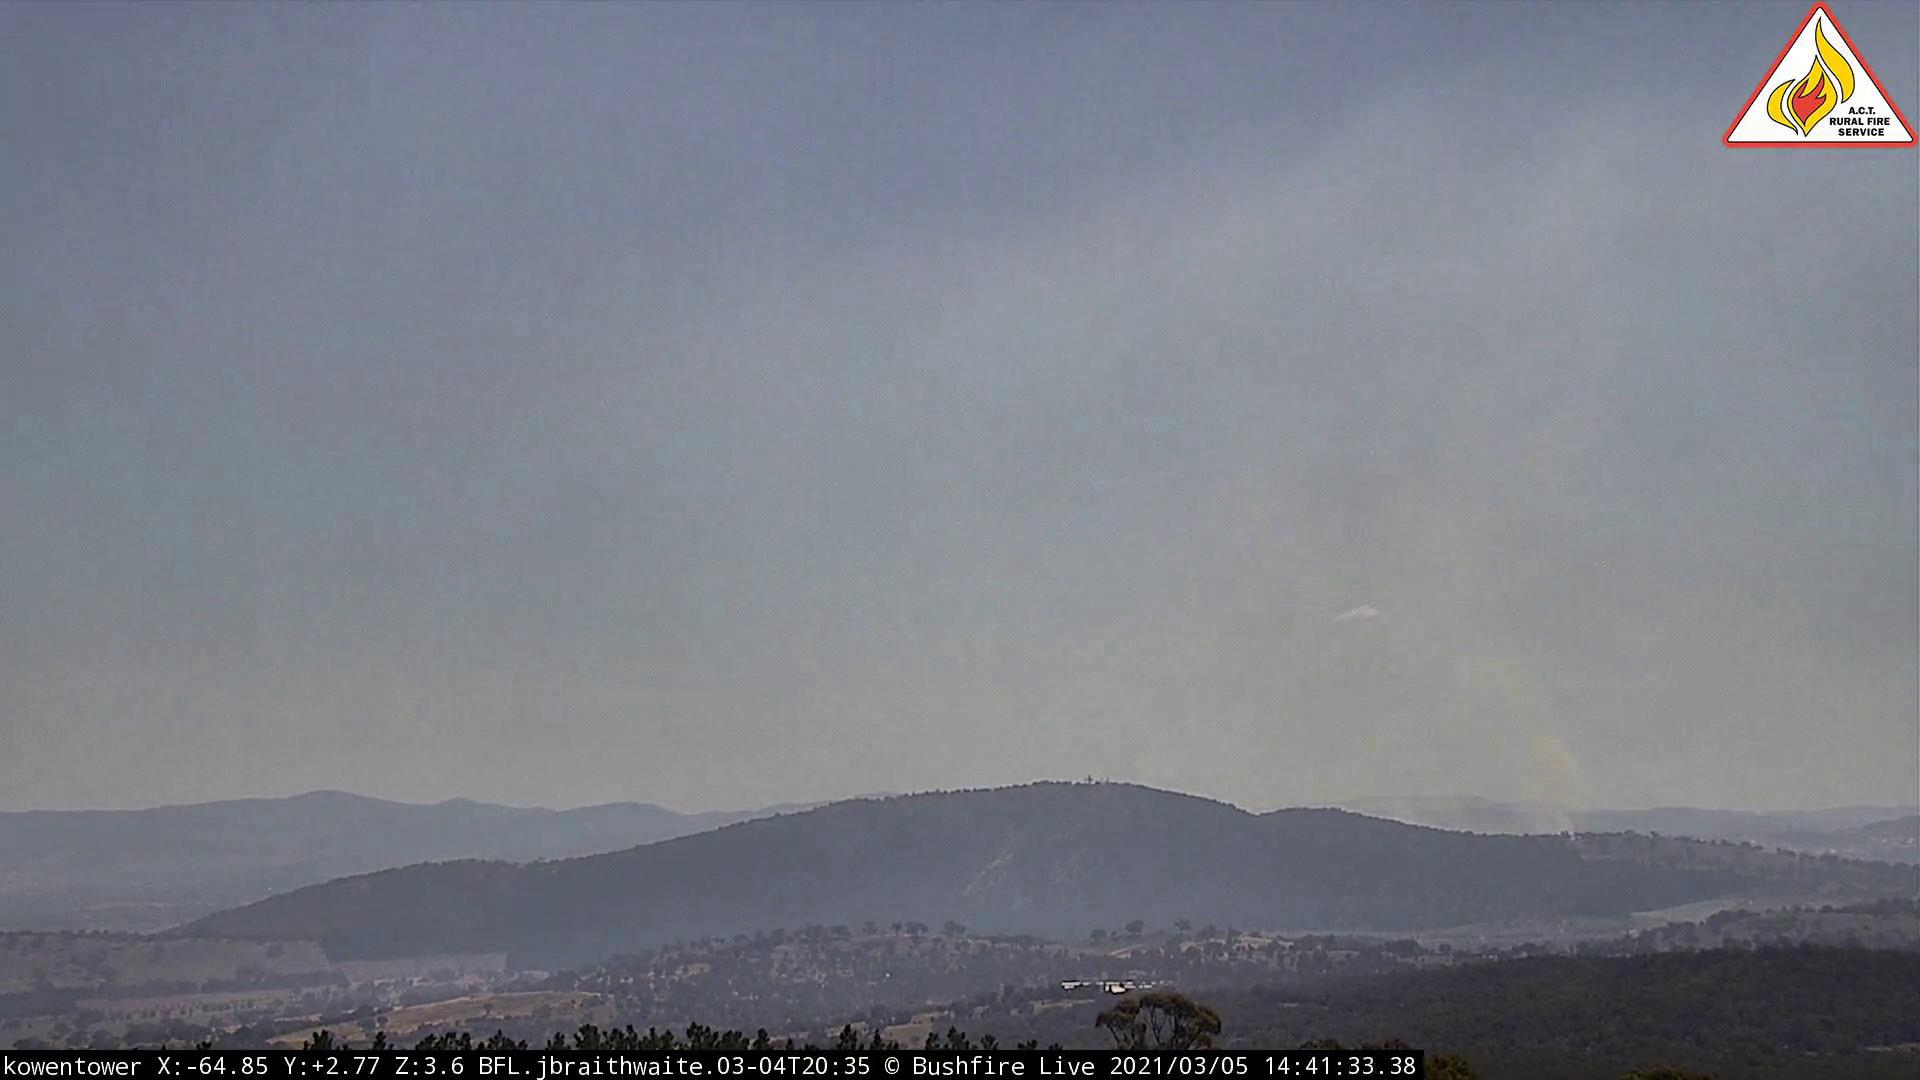Smoke: (1437, 644, 1600, 852)
